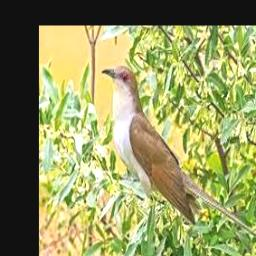Cuckoo: (100, 66, 256, 242)
